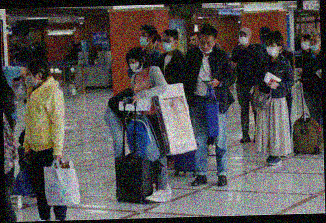mask_weared_incorrect: (200, 38, 214, 56), (309, 35, 321, 52)
with_mask: (24, 70, 37, 88), (129, 57, 143, 72), (162, 36, 174, 52), (139, 31, 150, 47), (267, 42, 278, 58), (239, 32, 250, 46), (300, 37, 310, 51)
without_mask: (190, 36, 200, 50)
